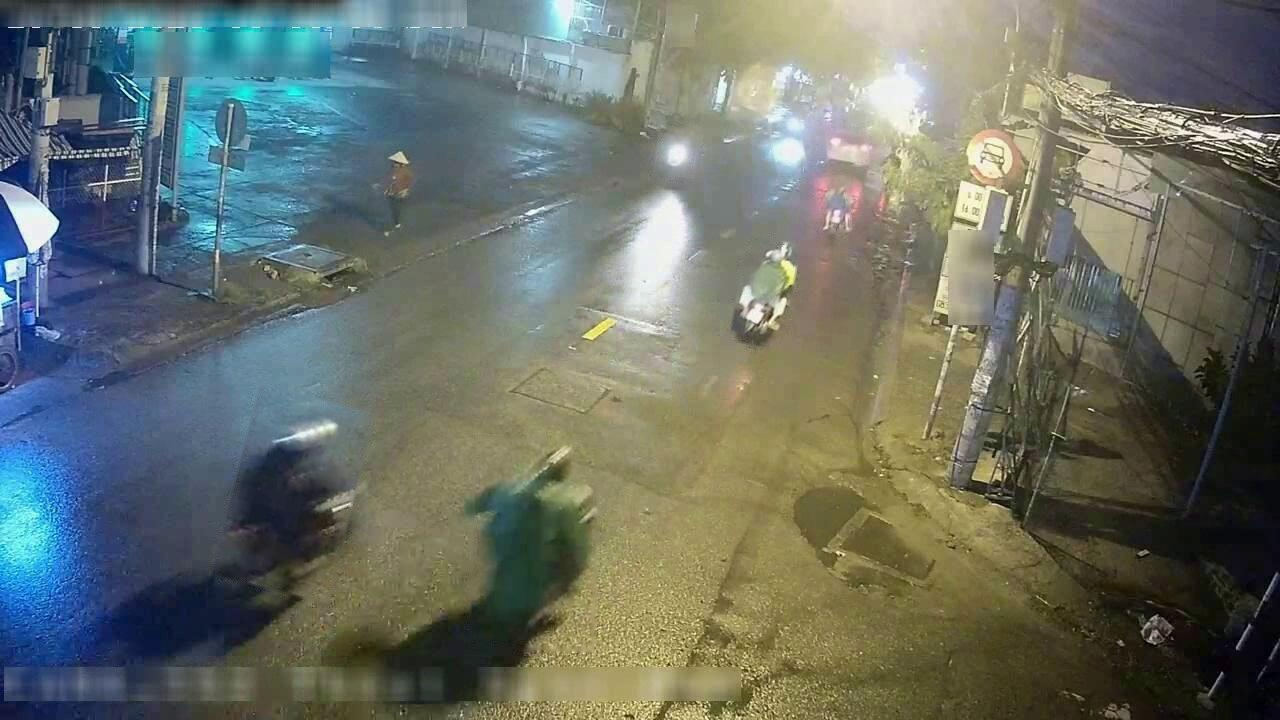Car: (825, 126, 870, 168)
Motorcycle: (731, 242, 797, 341)
Motorcyclist: (229, 402, 362, 597), (466, 447, 595, 633), (655, 129, 698, 186), (769, 120, 805, 172), (822, 179, 850, 232)
Sign: (215, 99, 247, 147)
